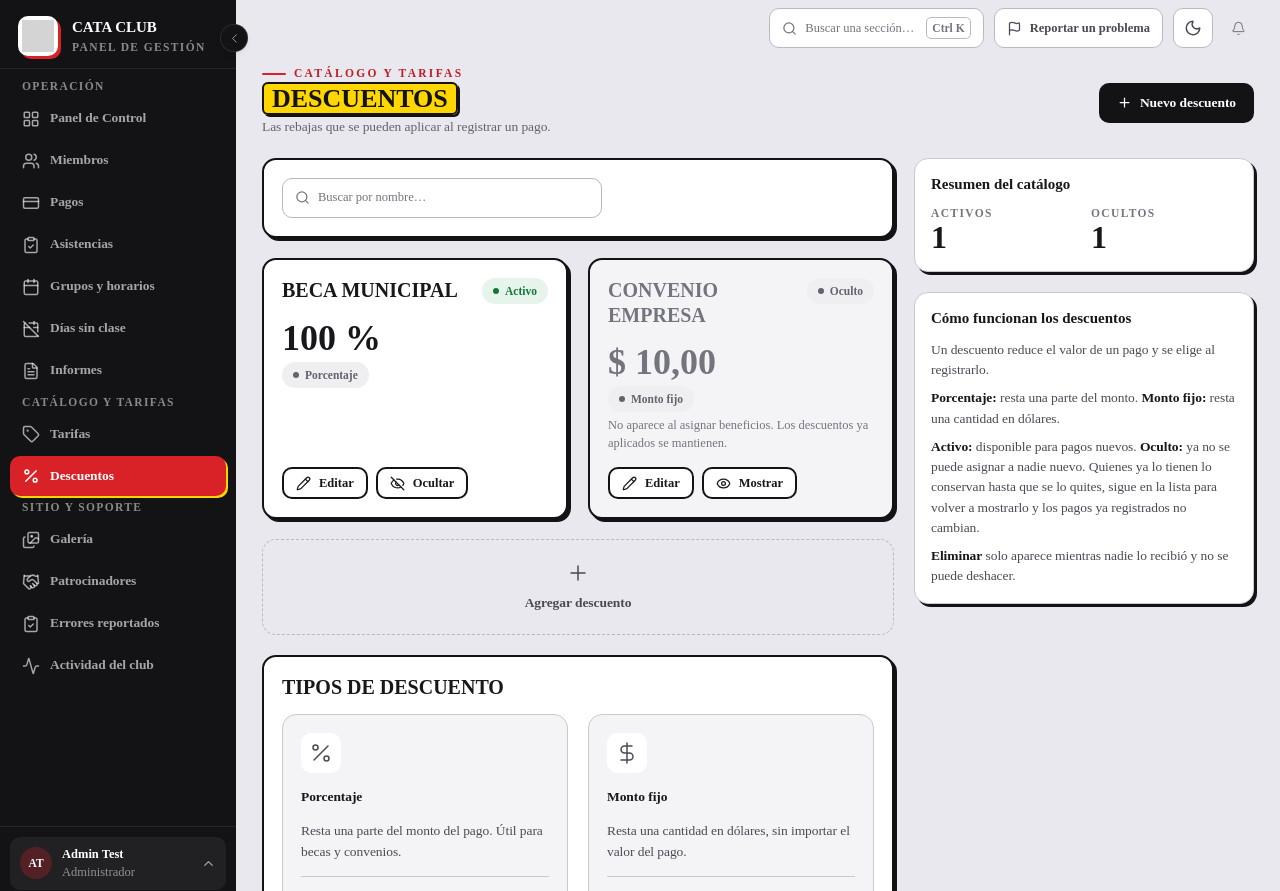
Test: DiscountsPage — búsqueda › shows the no-results empty state when nothing matches the search
Expected: the list with test id "discounts-cards" is shown, top-left (262, 258), bottom-right (894, 635)
In the search field named "Buscar descuentos": {"x": 454, "y": 198} top-left (318, 188), bottom-right (589, 207), type "nadie con este nombre"
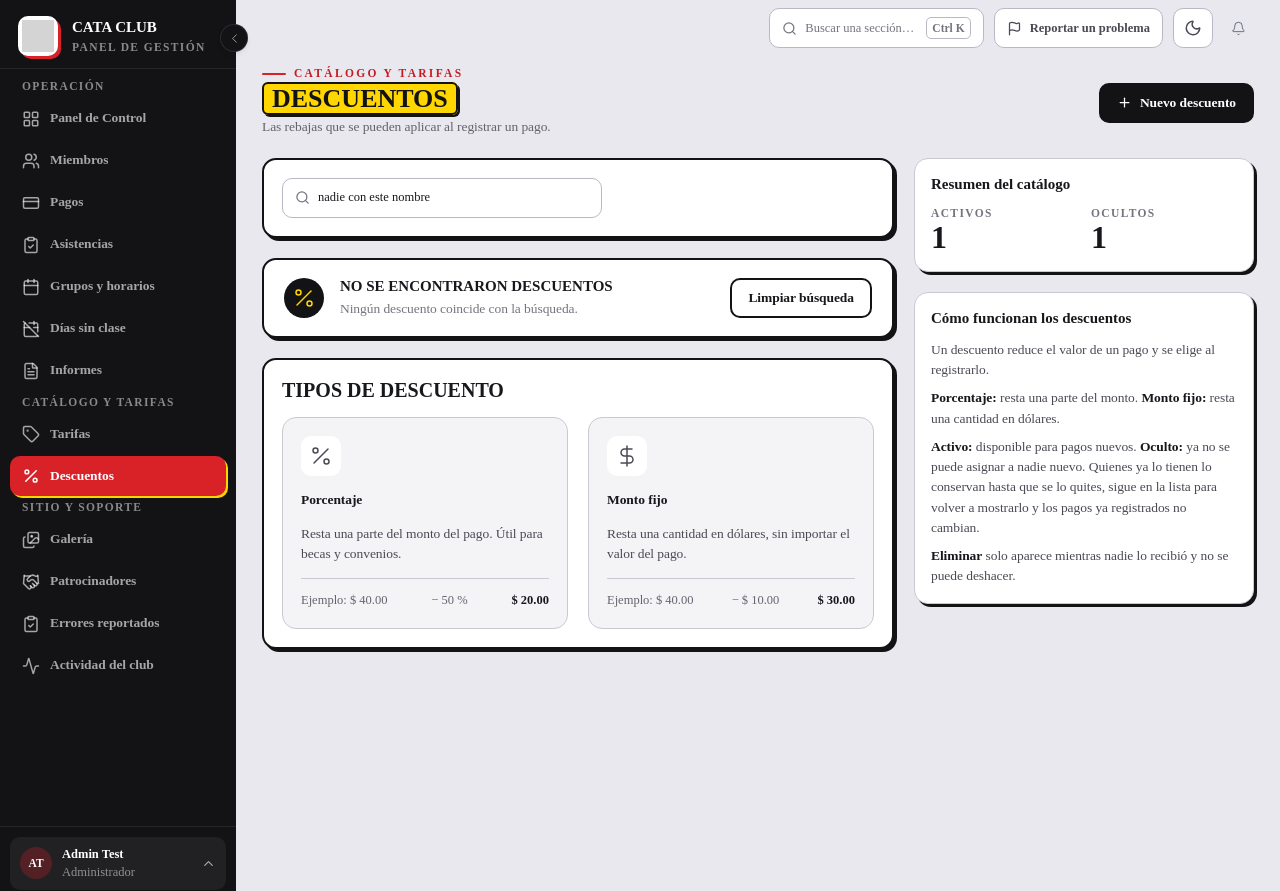
Result: the text "No se encontraron descuentos" is shown at top-left (340, 278), bottom-right (613, 294)
